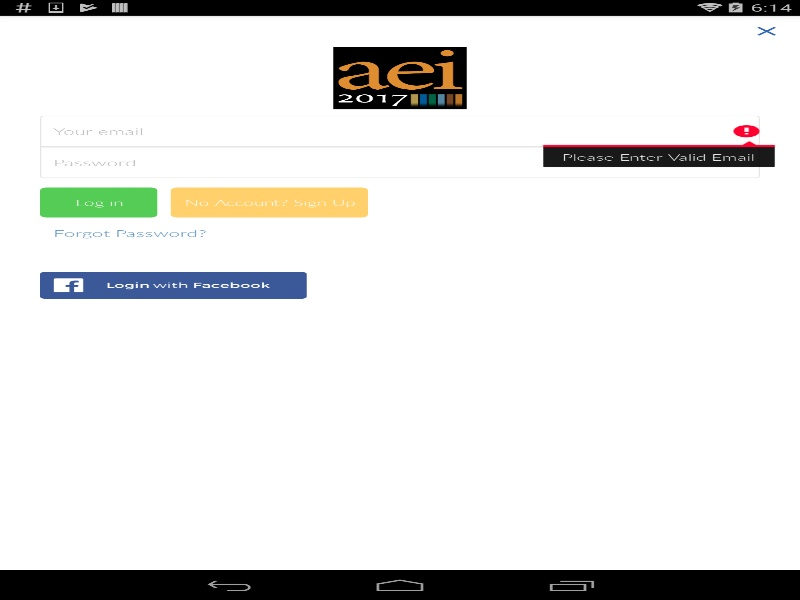Button: (40, 187, 157, 217)
Input: (40, 146, 760, 178), (40, 115, 760, 146)
